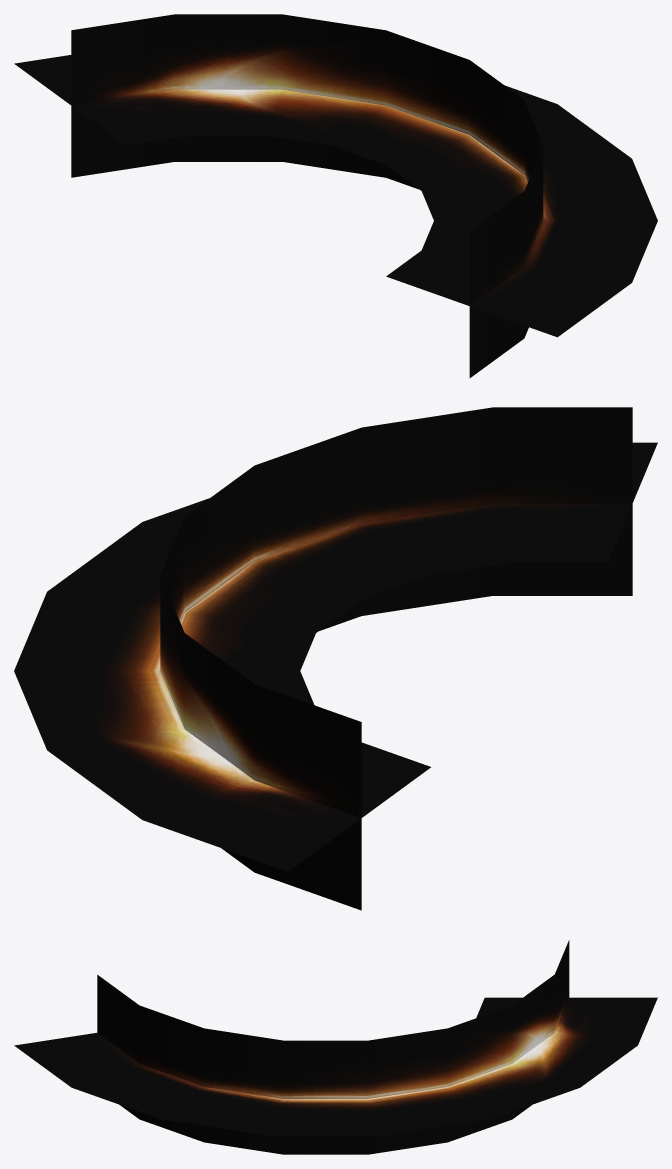
File: cc_zhaohen03.FBX
The picture shows the model from 3 angles, top to bottom: view 1: azimuth 30°, elevation 25°; view 2: azimuth 150°, elevation 25°; view 3: azimuth 270°, elevation 25°; orthographic projection. The views are drawn at different scales.
Parts seen in each view (by area): view 1: cc_zhaohen03; view 2: cc_zhaohen03; view 3: cc_zhaohen03.
Part boxes in pixels (bbox=[...]): cc_zhaohen03: bbox=[14, 14, 657, 377]; cc_zhaohen03: bbox=[14, 407, 657, 910]; cc_zhaohen03: bbox=[14, 940, 657, 1154].
Bounding box in the file's own units: 39.73 × 78.25 × 15.3.
1 material, 1 textured.
